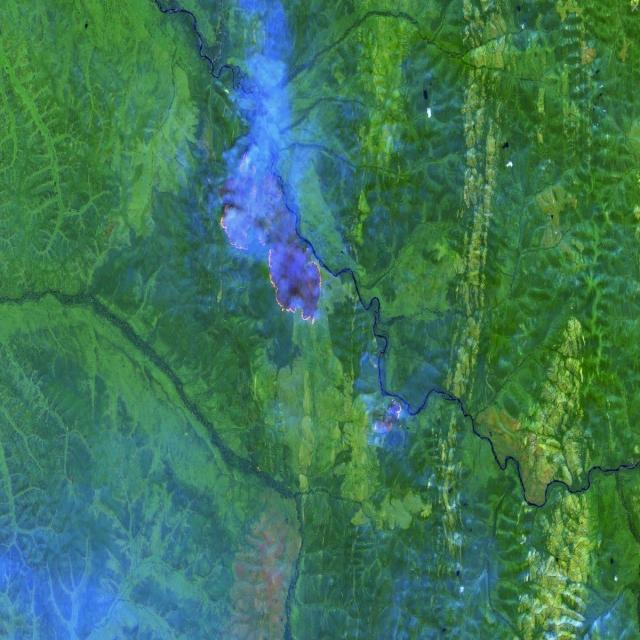fire: (214, 144, 330, 336), (372, 395, 407, 438)
